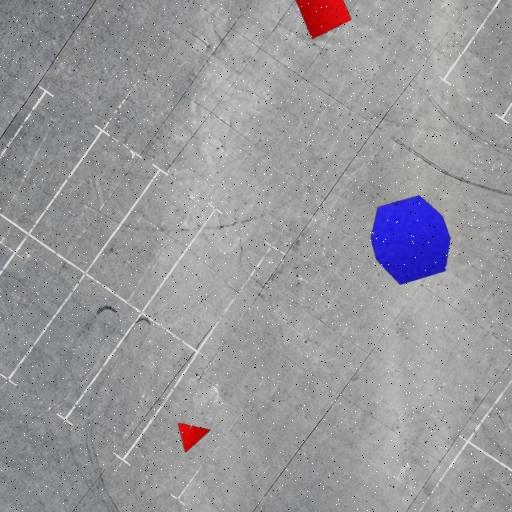RED_SQUARE: (294, 0, 352, 40)
